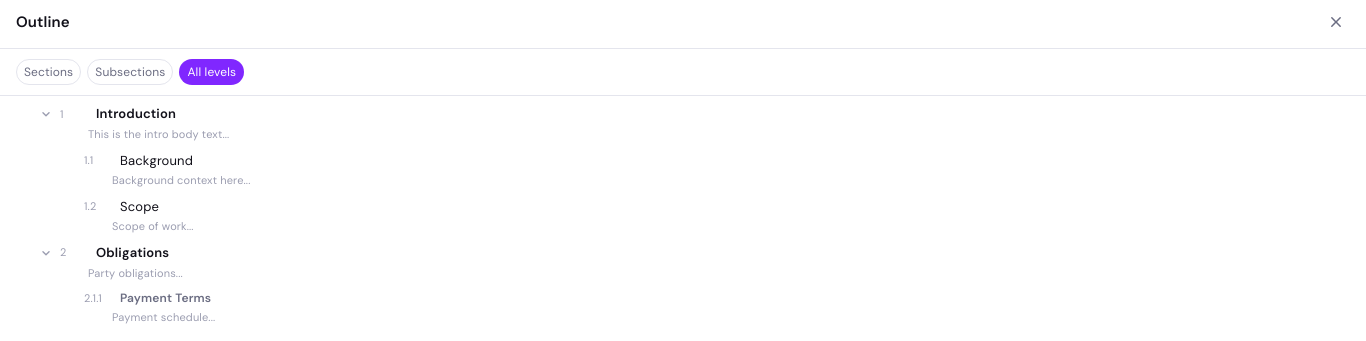
Test: OutlineView › clicking collapse chevron again expands child entries
Step 1. Click the button with test id "collapse-toggle-0" → (46, 114), box left=36, top=104, right=56, bottom=124
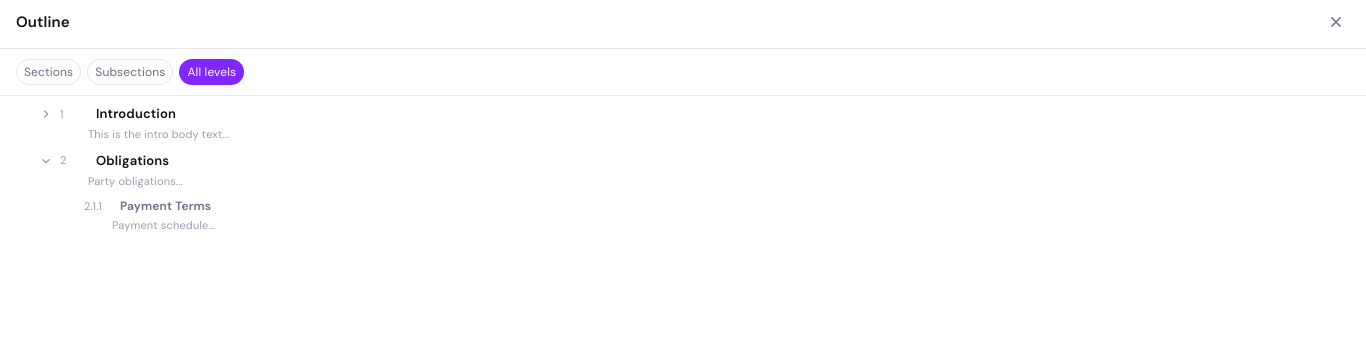
expect the text "Background" is gone: met
# Expand again
Step 2. Click the button with test id "collapse-toggle-0" → (46, 114), box left=36, top=104, right=56, bottom=124
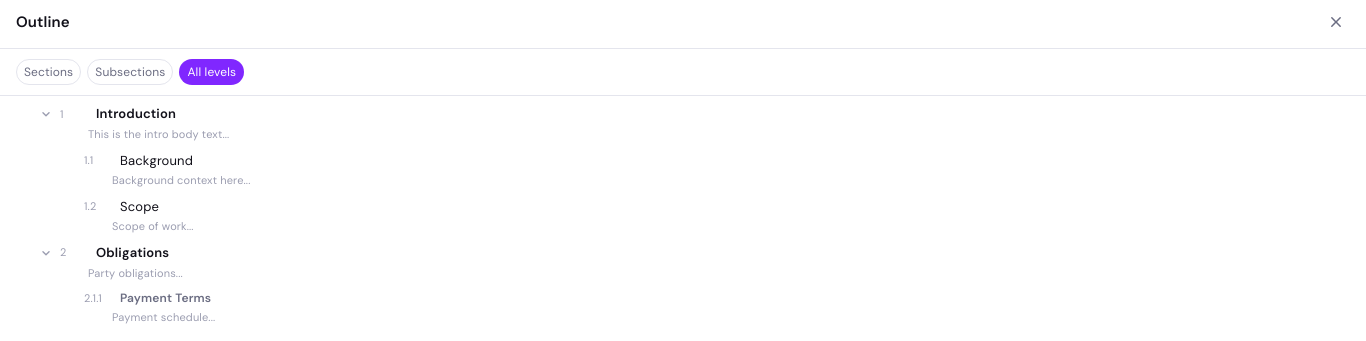
expect the text "Background" is shown: met, box left=120, top=152, right=193, bottom=168
